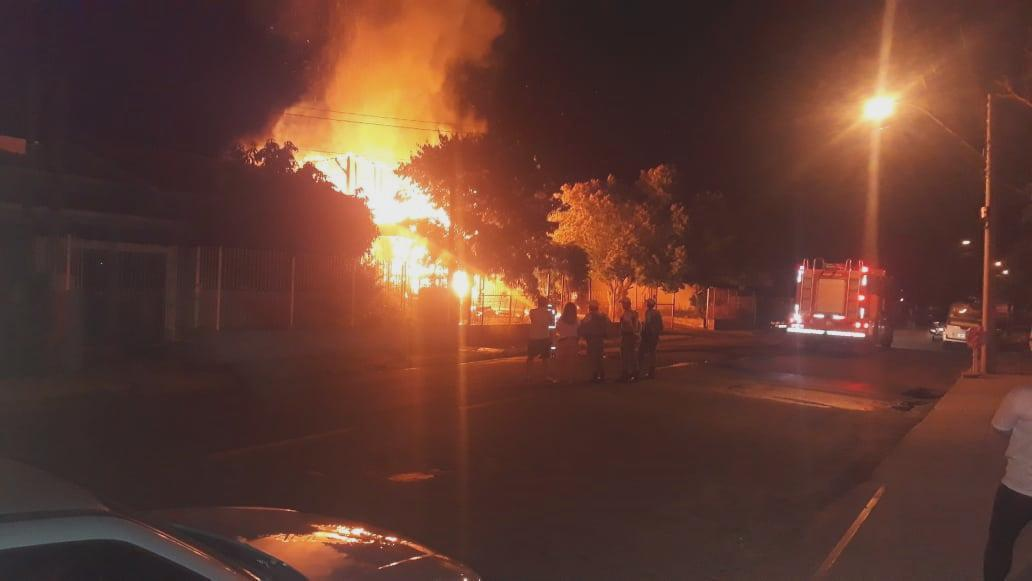Fire: (246, 5, 533, 322)
